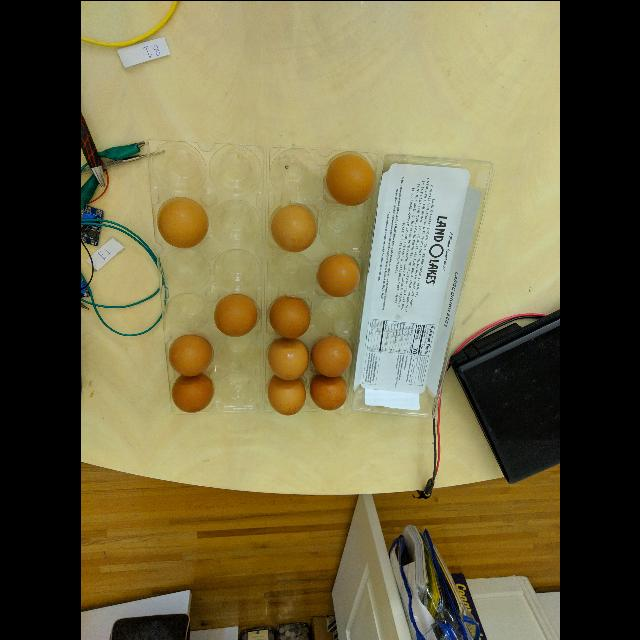Egg: (322, 150, 378, 208), (154, 191, 210, 249), (266, 200, 320, 256), (166, 331, 212, 384), (166, 366, 216, 414), (210, 288, 258, 338), (266, 288, 310, 342), (314, 252, 361, 300), (309, 331, 355, 379), (264, 336, 310, 382), (265, 369, 307, 417), (307, 370, 347, 410)
